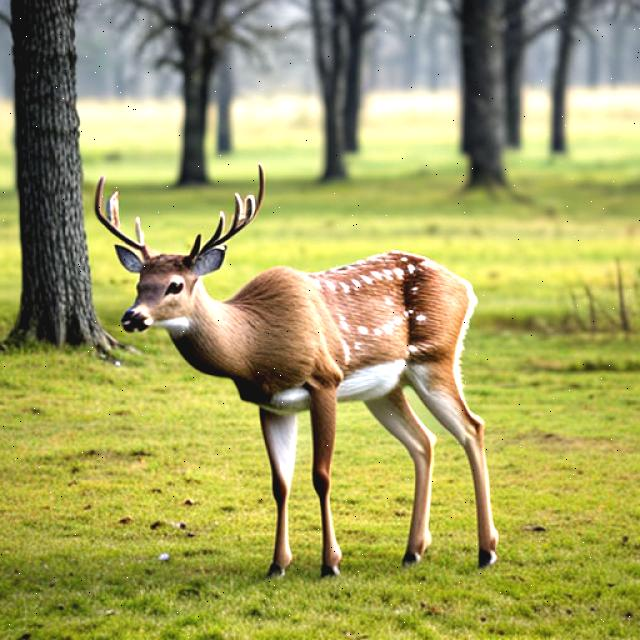deer: (90, 194, 522, 572)
